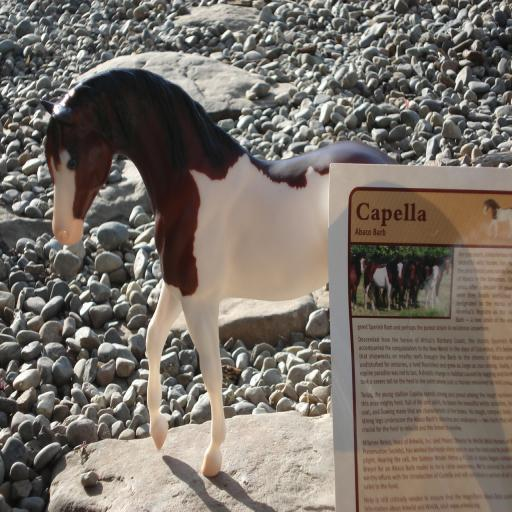horse: (40, 67, 400, 481), (362, 254, 452, 314), (482, 198, 511, 240), (348, 252, 368, 312)
